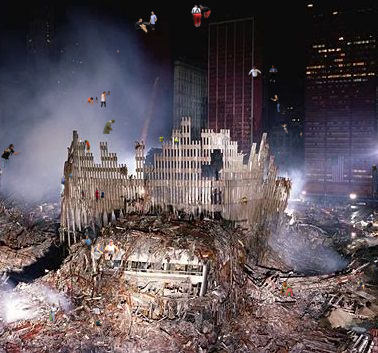Human: (248, 65, 278, 82), (1, 144, 22, 168), (82, 91, 113, 107), (92, 240, 121, 257), (135, 11, 157, 33), (191, 4, 211, 27), (81, 189, 105, 203), (159, 135, 179, 149), (279, 281, 296, 296), (238, 247, 258, 259), (351, 278, 365, 291), (103, 119, 115, 134), (270, 95, 280, 112), (49, 303, 57, 322), (59, 175, 67, 194), (369, 264, 378, 276), (84, 236, 91, 250), (84, 140, 91, 153), (281, 124, 288, 133), (95, 320, 103, 326), (77, 138, 83, 146), (372, 164, 377, 172), (69, 173, 74, 181), (300, 132, 303, 138), (285, 225, 288, 228), (247, 335, 251, 337), (117, 50, 119, 54), (365, 162, 367, 165), (229, 324, 230, 327)
